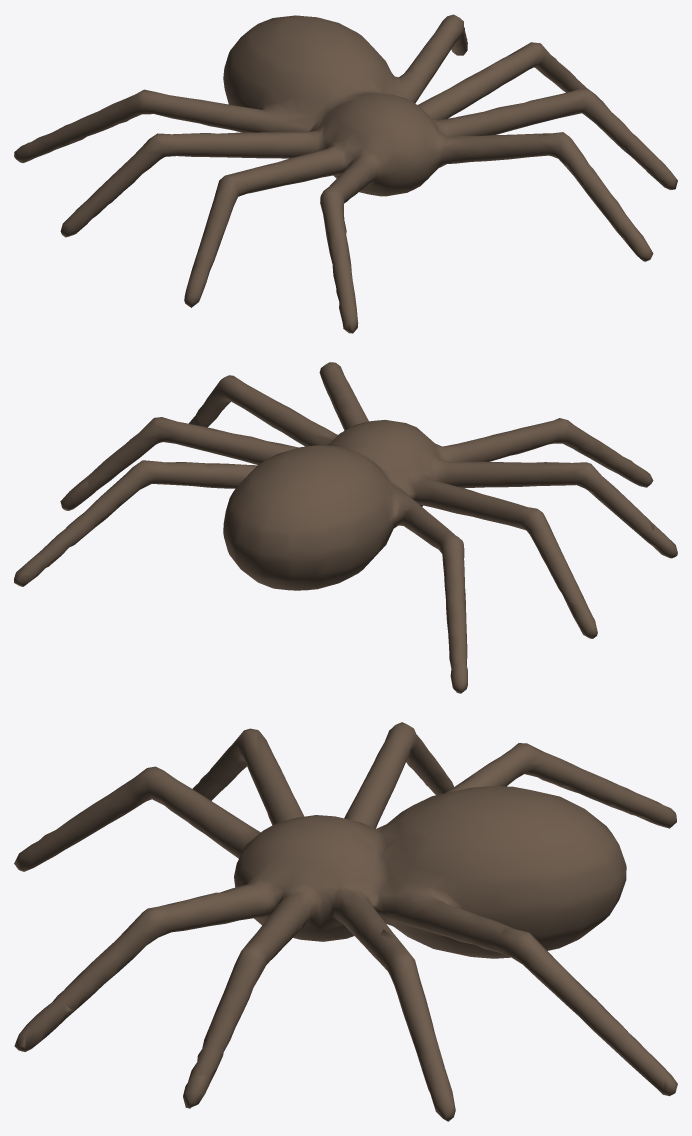
File: NEW_RECOVERY_008_LOD0.fbx
3 renders of one model, top to bottom at view 1: azimuth 30°, elevation 25°; view 2: azimuth 150°, elevation 25°; view 3: azimuth 270°, elevation 25°, orthographic. The views are drawn at different scales.
Parts seen in each view (by area): view 1: NEW_RECOVERY_008_spider_LOD0; view 2: NEW_RECOVERY_008_spider_LOD0; view 3: NEW_RECOVERY_008_spider_LOD0.
Boxes of the visible parts, x1,y1,x2,y2 form: NEW_RECOVERY_008_spider_LOD0: [14, 14, 677, 333]; NEW_RECOVERY_008_spider_LOD0: [14, 362, 677, 693]; NEW_RECOVERY_008_spider_LOD0: [14, 722, 677, 1121].
Bounding box in the file's own units: 341 × 292 × 79.94.
